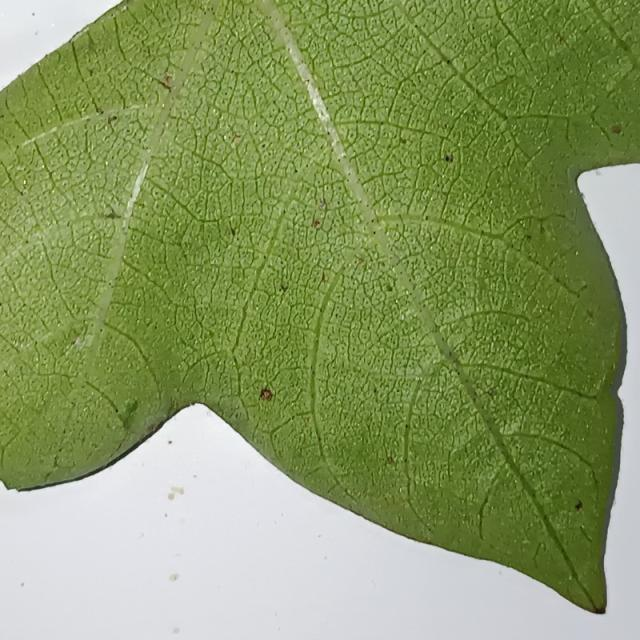Bacterial_Blight: (313, 198, 330, 227), (119, 397, 139, 420), (259, 384, 275, 407), (103, 205, 125, 221), (166, 484, 185, 500), (157, 76, 173, 90), (142, 423, 156, 439), (592, 603, 606, 615), (610, 124, 622, 134), (73, 334, 82, 346), (355, 257, 365, 267), (574, 500, 583, 511), (16, 186, 24, 197), (445, 154, 453, 163), (280, 283, 288, 292), (169, 574, 178, 582), (108, 115, 117, 123), (321, 273, 329, 282), (232, 134, 241, 142), (586, 309, 594, 318), (487, 388, 496, 396), (319, 198, 326, 208), (313, 220, 320, 228), (387, 456, 394, 464), (386, 284, 393, 292), (556, 36, 564, 43), (447, 351, 454, 359), (167, 492, 174, 500), (172, 627, 180, 634), (230, 227, 236, 236), (525, 234, 532, 241), (97, 108, 103, 114), (304, 78, 310, 84), (307, 416, 312, 423), (446, 59, 451, 64), (167, 440, 172, 445), (293, 168, 298, 173), (20, 582, 25, 587), (23, 179, 27, 185), (115, 408, 119, 413), (337, 157, 341, 162), (372, 230, 376, 235), (0, 302, 3, 307)
Cotton: (0, 0, 639, 610)
